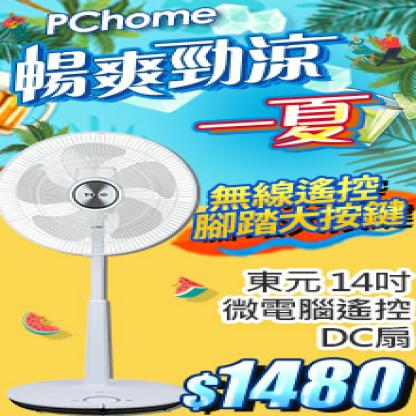fan: (0, 126, 201, 416)
